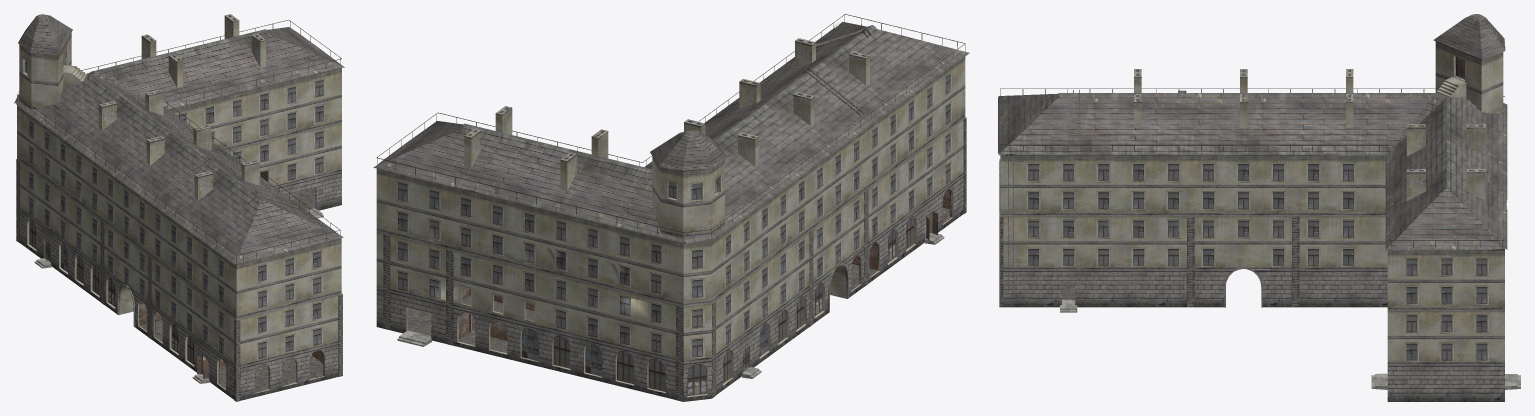
Rendered from Building_City_03_3LOD3.FBX.
The picture shows the model from 3 angles, left to right: view 1: azimuth 30°, elevation 25°; view 2: azimuth 150°, elevation 25°; view 3: azimuth 270°, elevation 25°; orthographic projection. The views are drawn at different scales.
Visible parts, largest first — view 1: Building_City_03_3LOD3, Building_City_03_3RoofLOD3, Building_City_03_3FrameLOD3, Building_City_03_3TowerLOD3, Building_City_03_3TubeLOD3; view 2: Building_City_03_3LOD3, Building_City_03_3RoofLOD3, Building_City_03_3FrameLOD3, Building_City_03_3TowerLOD3, Building_City_03_3TubeLOD3; view 3: Building_City_03_3LOD3, Building_City_03_3RoofLOD3, Building_City_03_3FrameLOD3, Building_City_03_3TowerLOD3, Building_City_03_3TubeLOD3.
Part boxes in pixels (x1=…): Building_City_03_3LOD3: x1=16, y1=68, x2=342, y2=401; Building_City_03_3RoofLOD3: x1=14, y1=20, x2=344, y2=264; Building_City_03_3FrameLOD3: x1=28, y1=78, x2=324, y2=360; Building_City_03_3TowerLOD3: x1=18, y1=14, x2=87, y2=109; Building_City_03_3TubeLOD3: x1=98, y1=14, x2=265, y2=200; Building_City_03_3LOD3: x1=376, y1=56, x2=966, y2=401; Building_City_03_3RoofLOD3: x1=373, y1=14, x2=969, y2=243; Building_City_03_3FrameLOD3: x1=396, y1=71, x2=951, y2=359; Building_City_03_3TowerLOD3: x1=650, y1=130, x2=726, y2=238; Building_City_03_3TubeLOD3: x1=464, y1=38, x2=869, y2=191; Building_City_03_3LOD3: x1=999, y1=154, x2=1520, y2=401; Building_City_03_3RoofLOD3: x1=998, y1=88, x2=1507, y2=250; Building_City_03_3FrameLOD3: x1=1026, y1=162, x2=1488, y2=361; Building_City_03_3TowerLOD3: x1=1433, y1=14, x2=1505, y2=114; Building_City_03_3TubeLOD3: x1=1134, y1=69, x2=1485, y2=200.
Size of the model in its own units: 3703 by 5201 by 2719.
6 materials, 6 textured.
